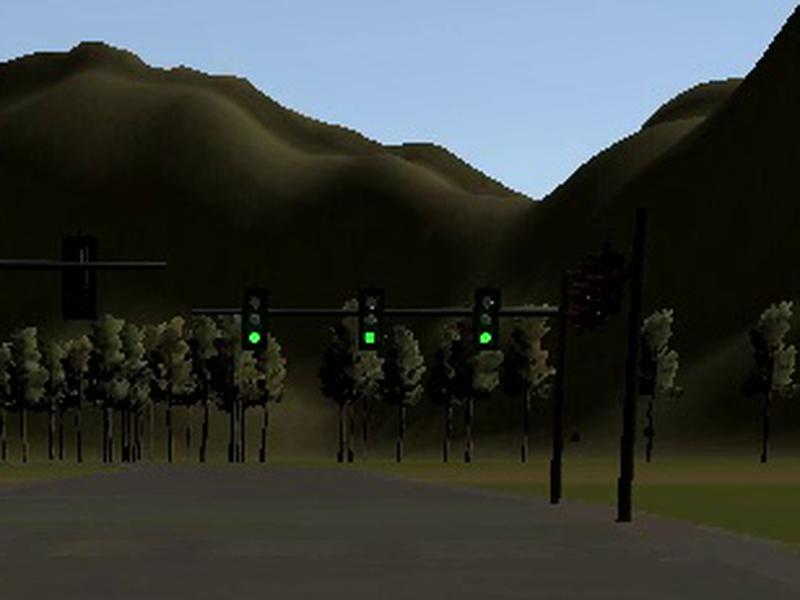Green: (471, 287, 501, 351), (356, 289, 384, 350), (241, 291, 269, 350)
